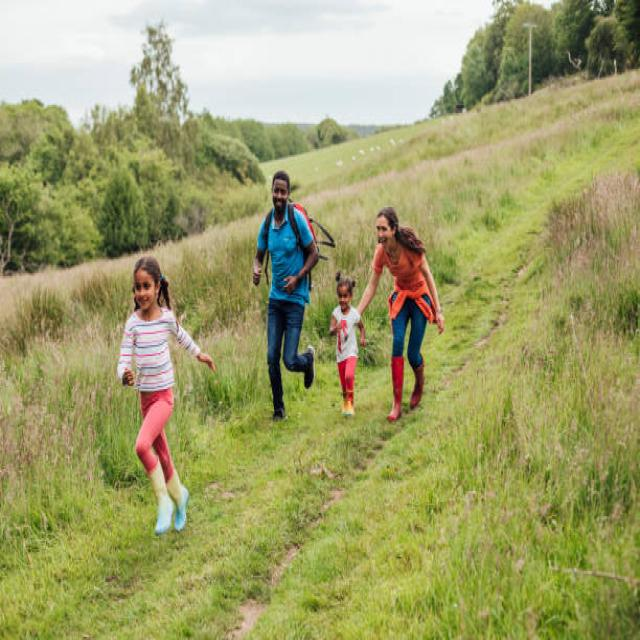Person: (118, 255, 215, 535), (358, 208, 444, 422), (254, 172, 319, 420), (327, 280, 367, 418)
